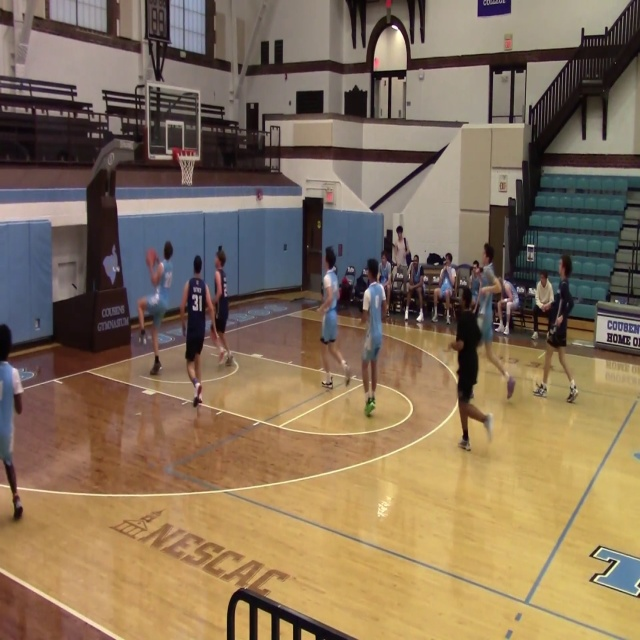Basketball: (150, 262, 164, 285), (164, 241, 173, 258), (450, 341, 463, 351)
